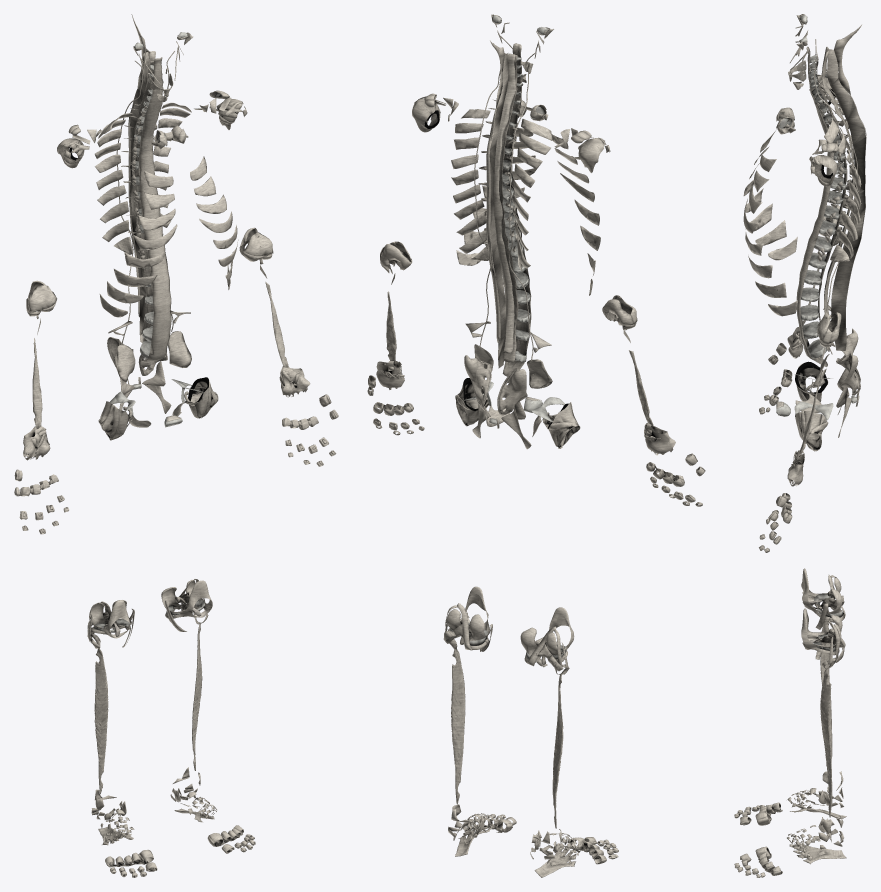
The model's file is joints.opt.glb.
3 renders of one model, left to right at view 1: azimuth 30°, elevation 25°; view 2: azimuth 150°, elevation 25°; view 3: azimuth 270°, elevation 25°, orthographic. The views are drawn at different scales.
Parts seen in each view (by area): view 1: anterior-longitudinal-ligament, external-intercostal-membrane-r, internal-intercostal-membrane-r, external-intercostal-membrane-l, interosseous-membrane-of-leg-r, interspinous-ligaments, articular-capsule-of-knee-joint-l, internal-intercostal-membrane-l, articular-capsule-of-knee-joint-r, articular-capsule-of-elbow-joint-l, interosseous-membrane-of-leg-l, articular-capsule-of-elbow-joint-r (+2 smaller); view 2: internal-intercostal-membrane-l, ligamenta-flava, interspinous-ligaments, internal-intercostal-membrane-r, interosseous-membrane-of-leg-l, anterior-longitudinal-ligament, external-intercostal-membrane-r, posterior-longitudinal-ligament, articular-capsule-of-knee-joint-l, supraspinous-ligament, articular-capsule-of-knee-joint-r, posterior-sacro-iliac-ligament-r (+4 smaller); view 3: interspinous-ligaments, external-intercostal-membrane-l, internal-intercostal-membrane-l, anterior-longitudinal-ligament, external-intercostal-membrane-r, interosseous-membrane-of-leg-l, articular-capsule-of-knee-joint-l, articular-capsule-of-knee-joint-r, ligamenta-flava, posterior-longitudinal-ligament, long-plantar-ligament-l, articular-capsule-of-elbow-joint-l (+16 smaller).
Part boxes in pixels (x1,y1,x2,y2): anterior-longitudinal-ligament: [138, 57, 171, 363]; external-intercostal-membrane-r: [99, 170, 177, 317]; internal-intercostal-membrane-r: [94, 113, 133, 254]; external-intercostal-membrane-l: [190, 156, 238, 289]; interosseous-membrane-of-leg-r: [94, 648, 108, 794]; interspinous-ligaments: [130, 50, 149, 342]; articular-capsule-of-knee-joint-l: [161, 580, 212, 618]; internal-intercostal-membrane-l: [153, 102, 191, 235]; articular-capsule-of-knee-joint-r: [90, 600, 131, 638]; articular-capsule-of-elbow-joint-l: [239, 227, 272, 261]; interosseous-membrane-of-leg-l: [192, 622, 202, 770]; articular-capsule-of-elbow-joint-r: [28, 280, 56, 311]; internal-intercostal-membrane-l: [451, 109, 490, 260]; ligamenta-flava: [494, 53, 515, 353]; interspinous-ligaments: [488, 53, 508, 368]; internal-intercostal-membrane-r: [512, 119, 552, 271]; interosseous-membrane-of-leg-l: [451, 649, 465, 804]; anterior-longitudinal-ligament: [502, 43, 531, 376]; external-intercostal-membrane-r: [551, 134, 600, 295]; posterior-longitudinal-ligament: [499, 53, 518, 362]; articular-capsule-of-knee-joint-l: [446, 586, 489, 649]; supraspinous-ligament: [486, 108, 500, 343]; articular-capsule-of-knee-joint-r: [520, 607, 574, 662]; posterior-sacro-iliac-ligament-r: [497, 368, 527, 415]; interspinous-ligaments: [826, 49, 865, 350]; external-intercostal-membrane-l: [743, 154, 797, 316]; internal-intercostal-membrane-l: [824, 116, 861, 262]; anterior-longitudinal-ligament: [796, 46, 833, 366]; external-intercostal-membrane-r: [743, 129, 797, 260]; interosseous-membrane-of-leg-l: [820, 668, 832, 817]; articular-capsule-of-knee-joint-l: [801, 608, 843, 655]; articular-capsule-of-knee-joint-r: [801, 568, 844, 622]; ligamenta-flava: [822, 47, 854, 314]; posterior-longitudinal-ligament: [816, 53, 847, 351]; long-plantar-ligament-l: [789, 843, 846, 864]; articular-capsule-of-elbow-joint-l: [817, 312, 841, 343].
Size of the model in its own units: 0.6613 by 1.58 by 0.2309.
3 materials, 3 textured.
